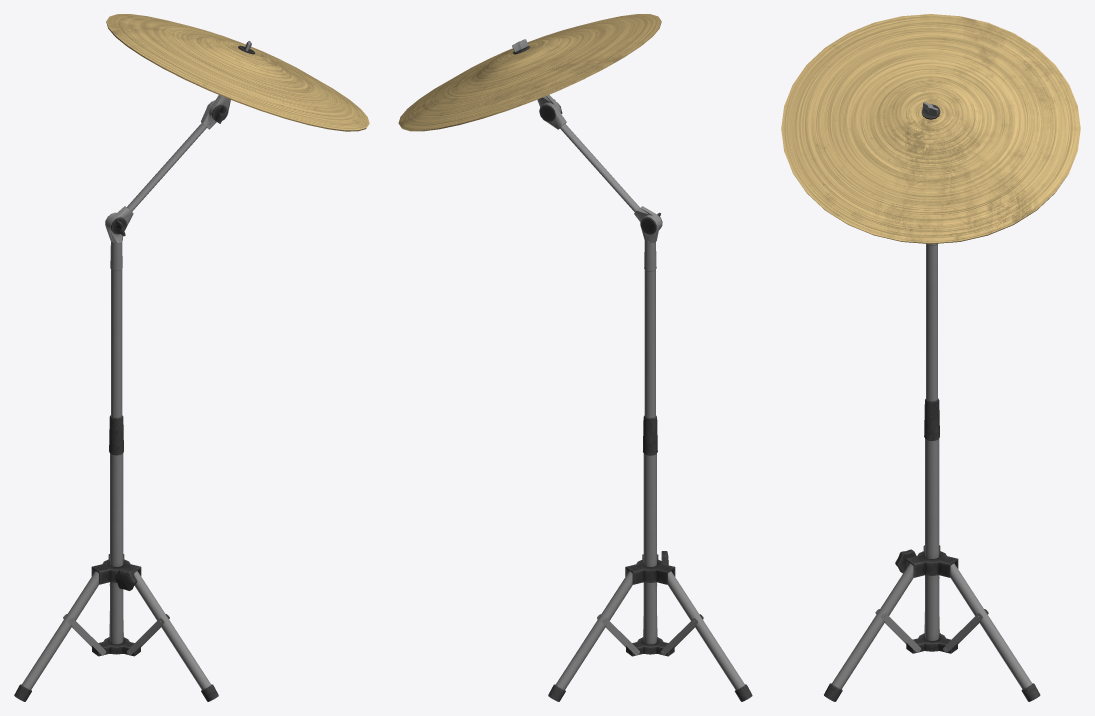
File: SM_Drum_Cymbals_02.fbx
3 renders of one model, left to right at view 1: azimuth 30°, elevation 25°; view 2: azimuth 150°, elevation 25°; view 3: azimuth 270°, elevation 25°, orthographic. The views are drawn at different scales.
Visible parts, largest first — view 1: SM_Drum_Cymbals_02_LOD0; view 2: SM_Drum_Cymbals_02_LOD0; view 3: SM_Drum_Cymbals_02_LOD0.
Part boxes in pixels (x1,y1,x2,y2): SM_Drum_Cymbals_02_LOD0: [14, 14, 369, 701]; SM_Drum_Cymbals_02_LOD0: [398, 14, 752, 701]; SM_Drum_Cymbals_02_LOD0: [781, 14, 1080, 701].
Bounding box in the file's own units: 62.77 × 46.14 × 114.
1 material, 1 textured.
